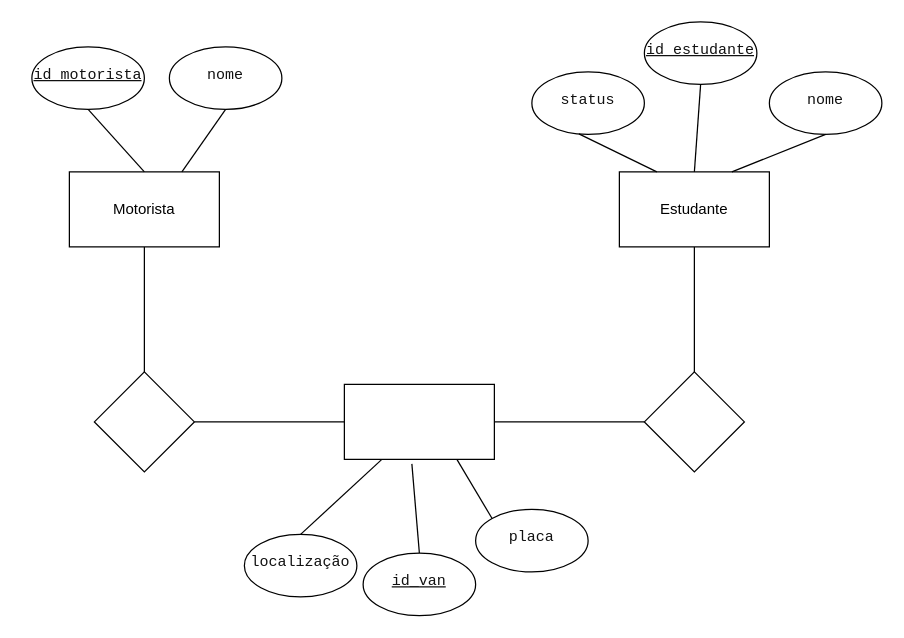
The diagram is 904 pixels wide and 638 high, and some of its shapes have lost their labels. Each missing label, with the centre of its shape:
Conduz: point 143,421
Usa: point 693,421
Van: point 418,421
